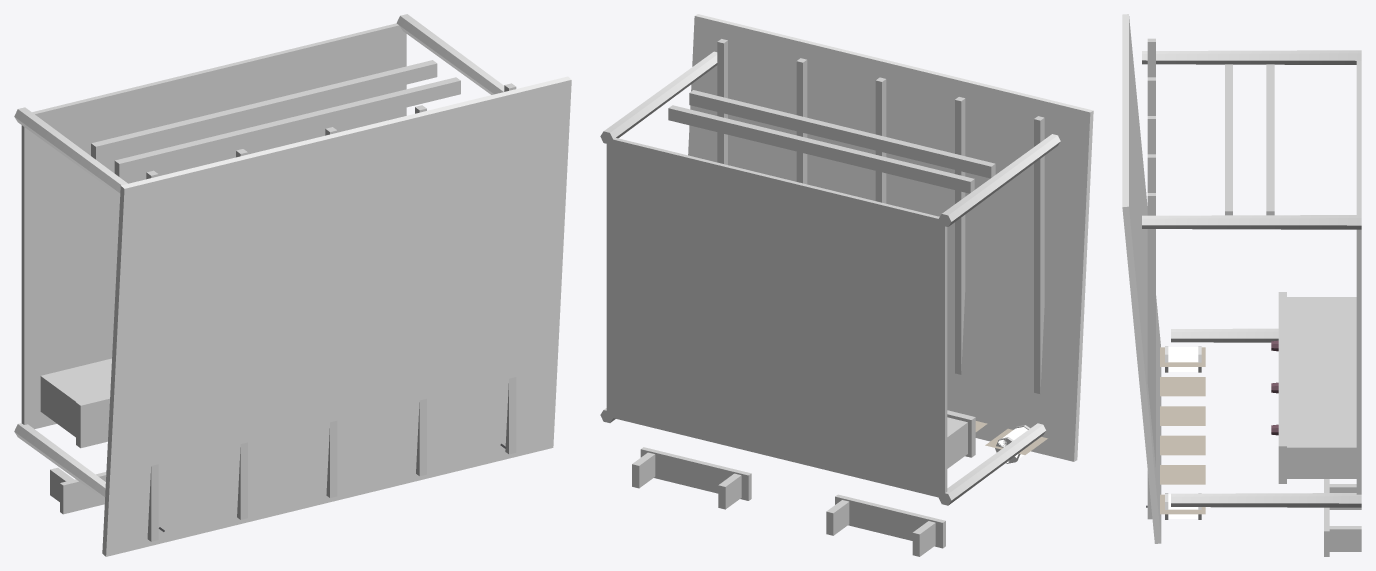
File: SM_Tea_Stall.glb
The picture shows the model from 3 angles, left to right: view 1: azimuth 30°, elevation 25°; view 2: azimuth 150°, elevation 25°; view 3: azimuth 270°, elevation 25°; orthographic projection. The views are drawn at different scales.
Visible parts, largest first — view 1: asset_tea_stall; view 2: asset_tea_stall; view 3: asset_tea_stall.
Boxes of the visible parts, box(x1,y1,x2,y2) form: asset_tea_stall: box(14, 14, 571, 556); asset_tea_stall: box(600, 14, 1093, 556); asset_tea_stall: box(1122, 14, 1361, 556).
Bounding box in the file's own units: 5.5 × 4.96 × 2.89.
Materials: 3 (3 with a texture image).
